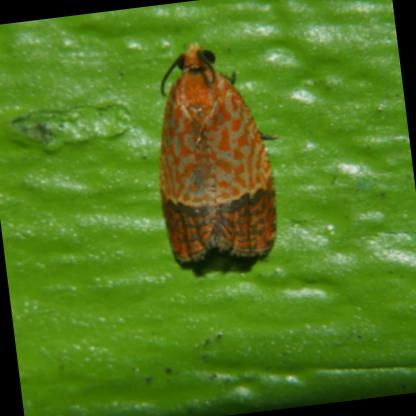Leaf Webber: (158, 47, 278, 268)
